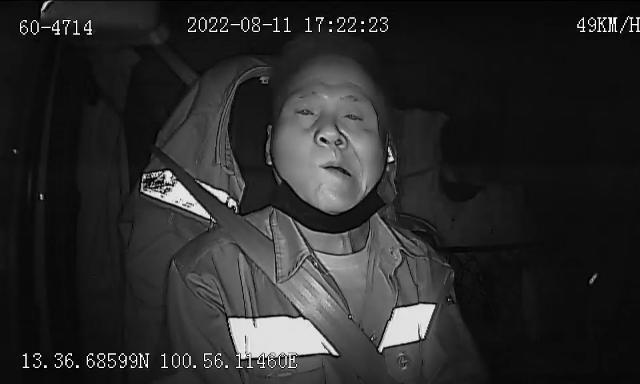SafeDriving: (336, 102, 372, 136), (289, 98, 323, 126)
Seatbelt: (164, 156, 388, 384)
